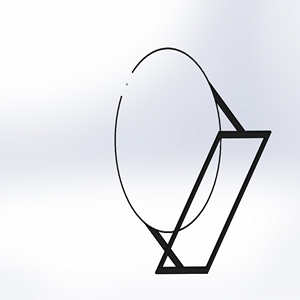circle: (112, 42, 270, 276)
